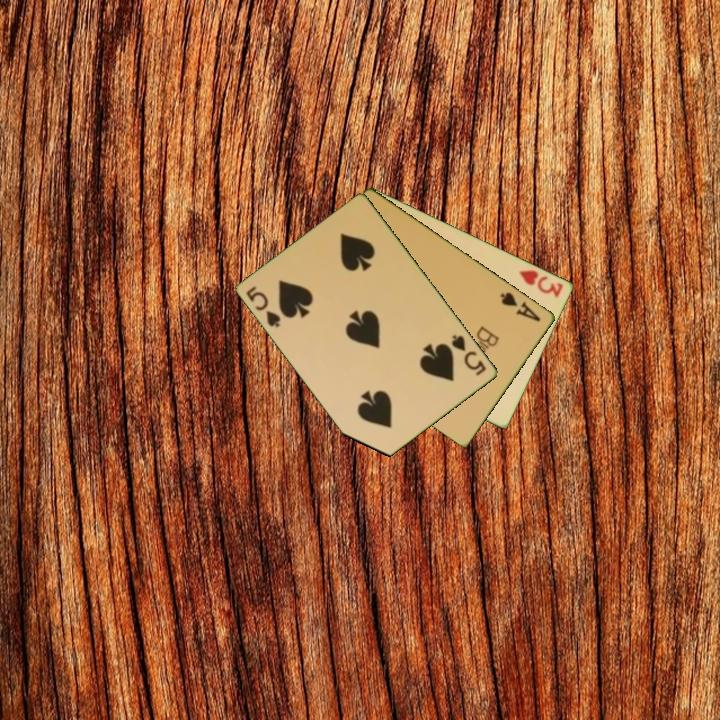3h: (515, 266, 566, 300)
5s: (448, 331, 490, 379), (243, 283, 284, 331)
As: (497, 288, 544, 325)
